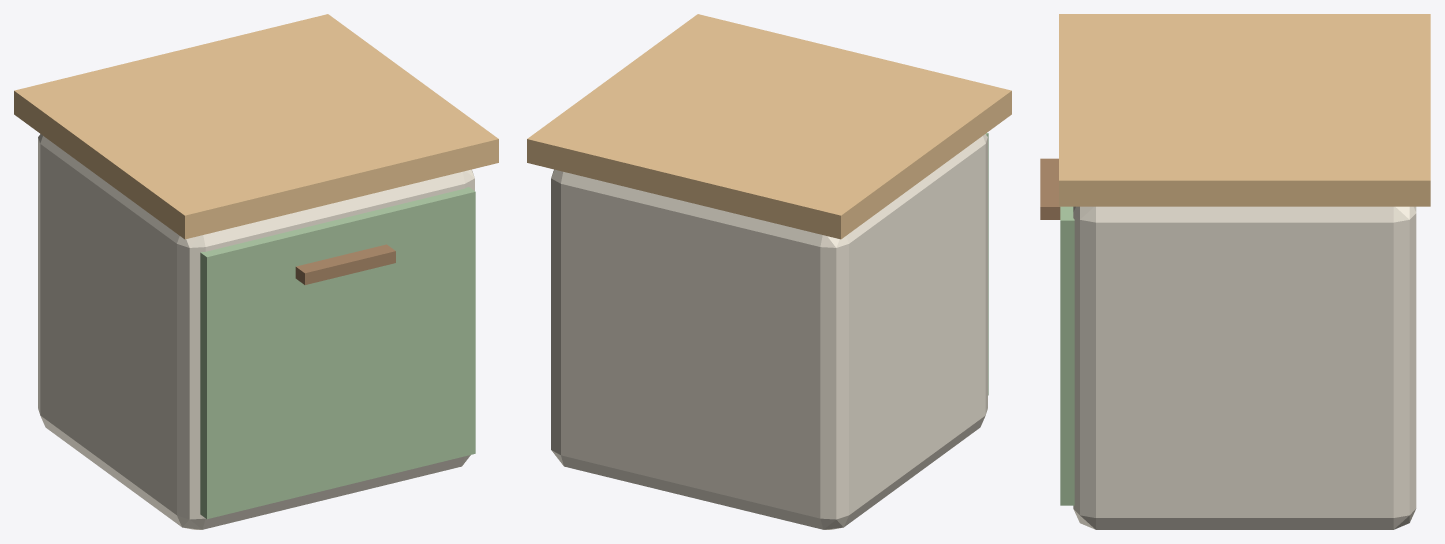
Rendered from cozy-home-interiors-wall-cabinet-4d6f57d2.glb.
The picture shows the model from 3 angles, left to right: view 1: azimuth 30°, elevation 25°; view 2: azimuth 150°, elevation 25°; view 3: azimuth 270°, elevation 25°; orthographic projection. The views are drawn at different scales.
Visible parts, largest first — view 1: wall-cabinet; view 2: wall-cabinet; view 3: wall-cabinet.
Boxes of the visible parts, <box> form: wall-cabinet: <box>14,14,498,529</box>; wall-cabinet: <box>527,14,1011,529</box>; wall-cabinet: <box>1040,14,1430,529</box>.
Size of the model in its own units: 0.69 by 0.7 by 0.6825.
